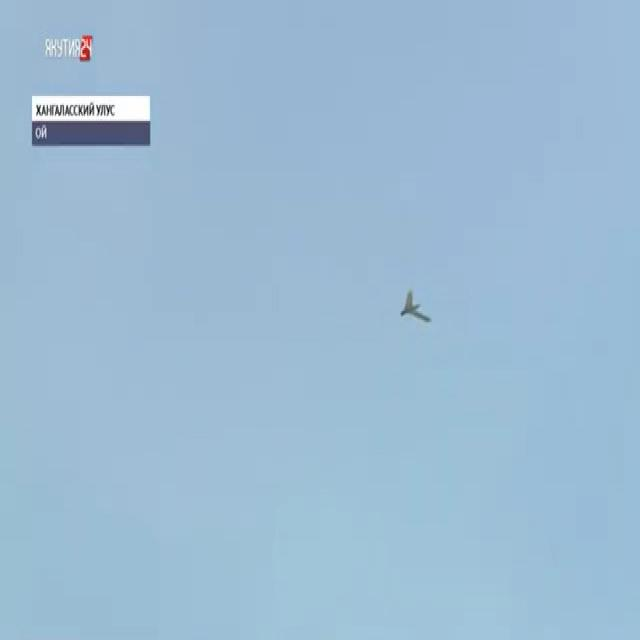drone: (395, 285, 432, 331)
